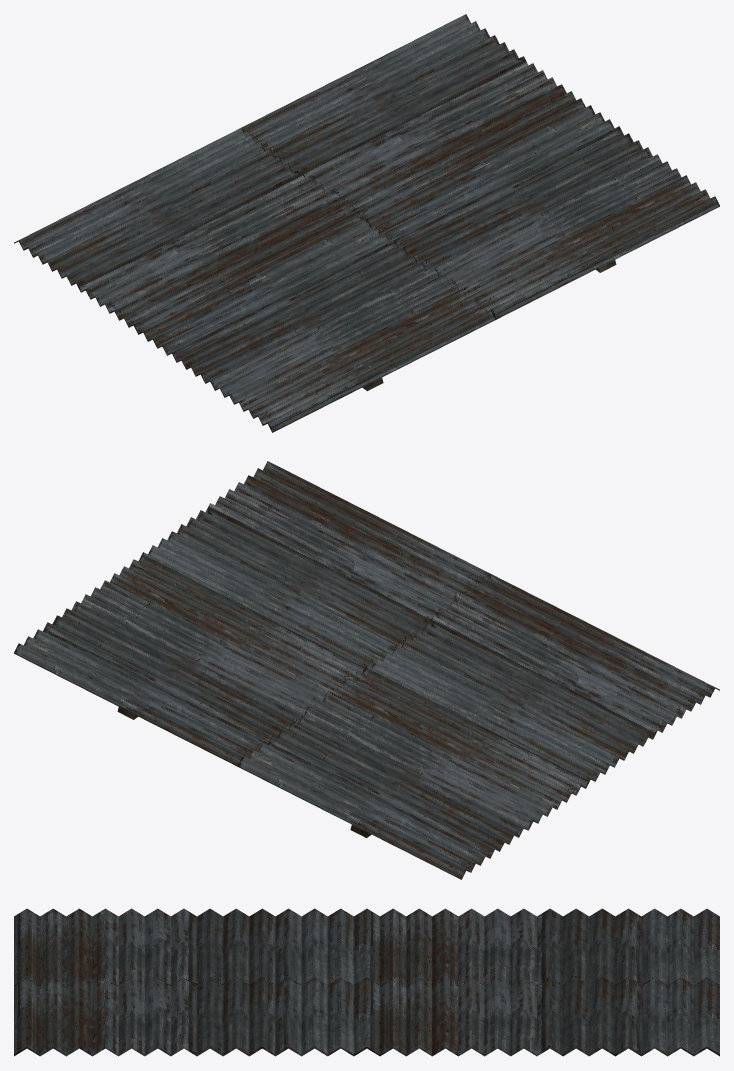
The model's file is roof_hr_3_middle_angle.glb.
3 views of the same model, one above another, from view 1: azimuth 30°, elevation 25°; view 2: azimuth 150°, elevation 25°; view 3: azimuth 270°, elevation 25° (orthographic). The views are drawn at different scales.
Parts seen in each view (by area): view 1: roof_hr_3_middle_angle; view 2: roof_hr_3_middle_angle; view 3: roof_hr_3_middle_angle.
Boxes of the visible parts, x1,y1,x2,y2 form: roof_hr_3_middle_angle: [14, 14, 719, 432]; roof_hr_3_middle_angle: [14, 461, 719, 879]; roof_hr_3_middle_angle: [14, 908, 719, 1056].
Size of the model in its own units: 4 by 1.06 by 4.
Materials: 2 (2 with a texture image).
